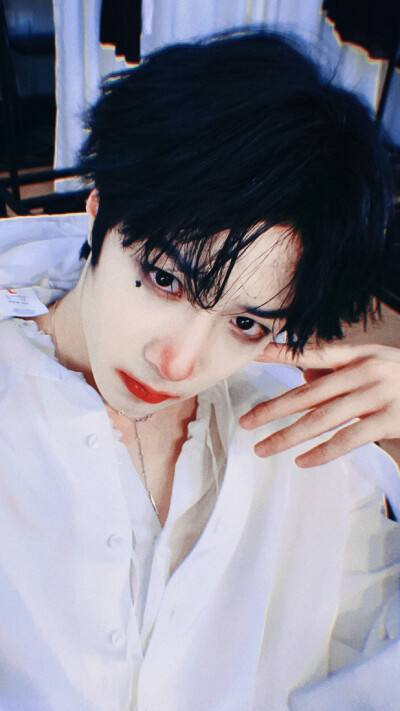person: (30, 25, 400, 521)
